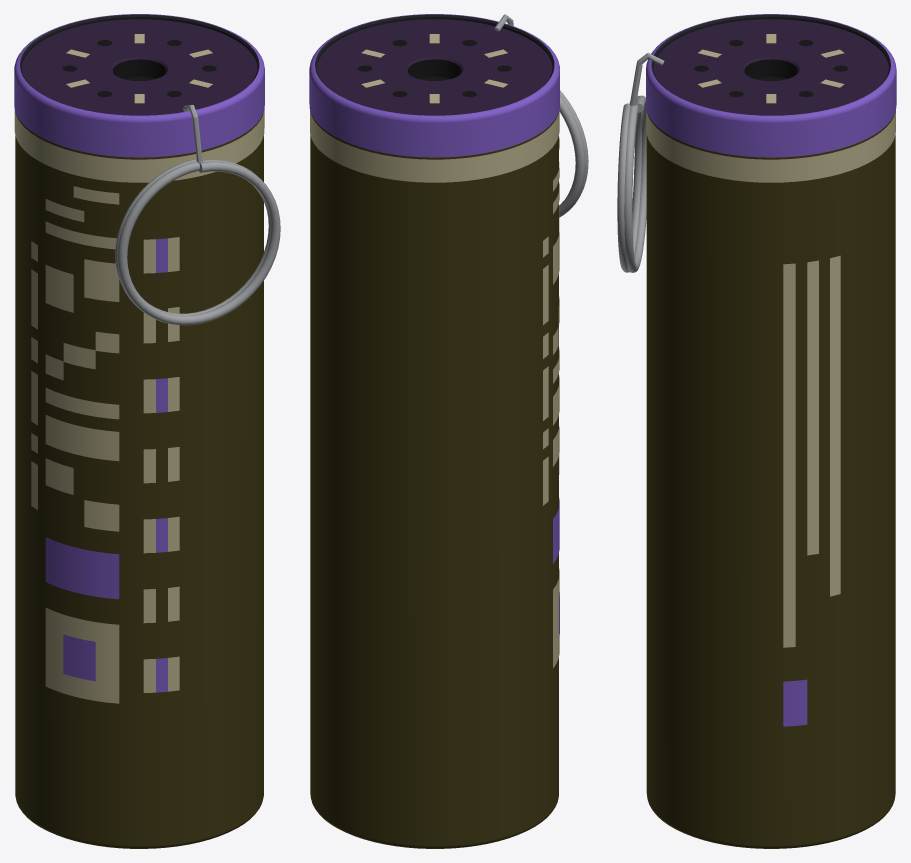
The model's file is flash.glb.
The picture shows the model from 3 angles, left to right: view 1: azimuth 30°, elevation 25°; view 2: azimuth 150°, elevation 25°; view 3: azimuth 270°, elevation 25°; orthographic projection.
Parts seen in each view (by area): view 1: Flash; view 2: Flash; view 3: Flash.
Part boxes in pixels (box(x1,y1,x2,y2)): Flash: box(14, 14, 280, 848); Flash: box(309, 14, 588, 848); Flash: box(617, 14, 896, 848).
Size of the model in its own units: 0.0403 by 0.1314 by 0.0449.
